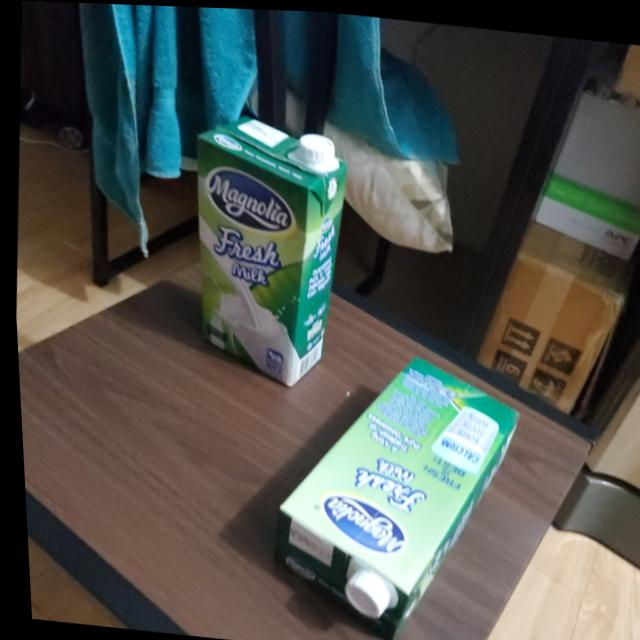milk: (261, 333, 530, 640), (174, 107, 360, 394)
